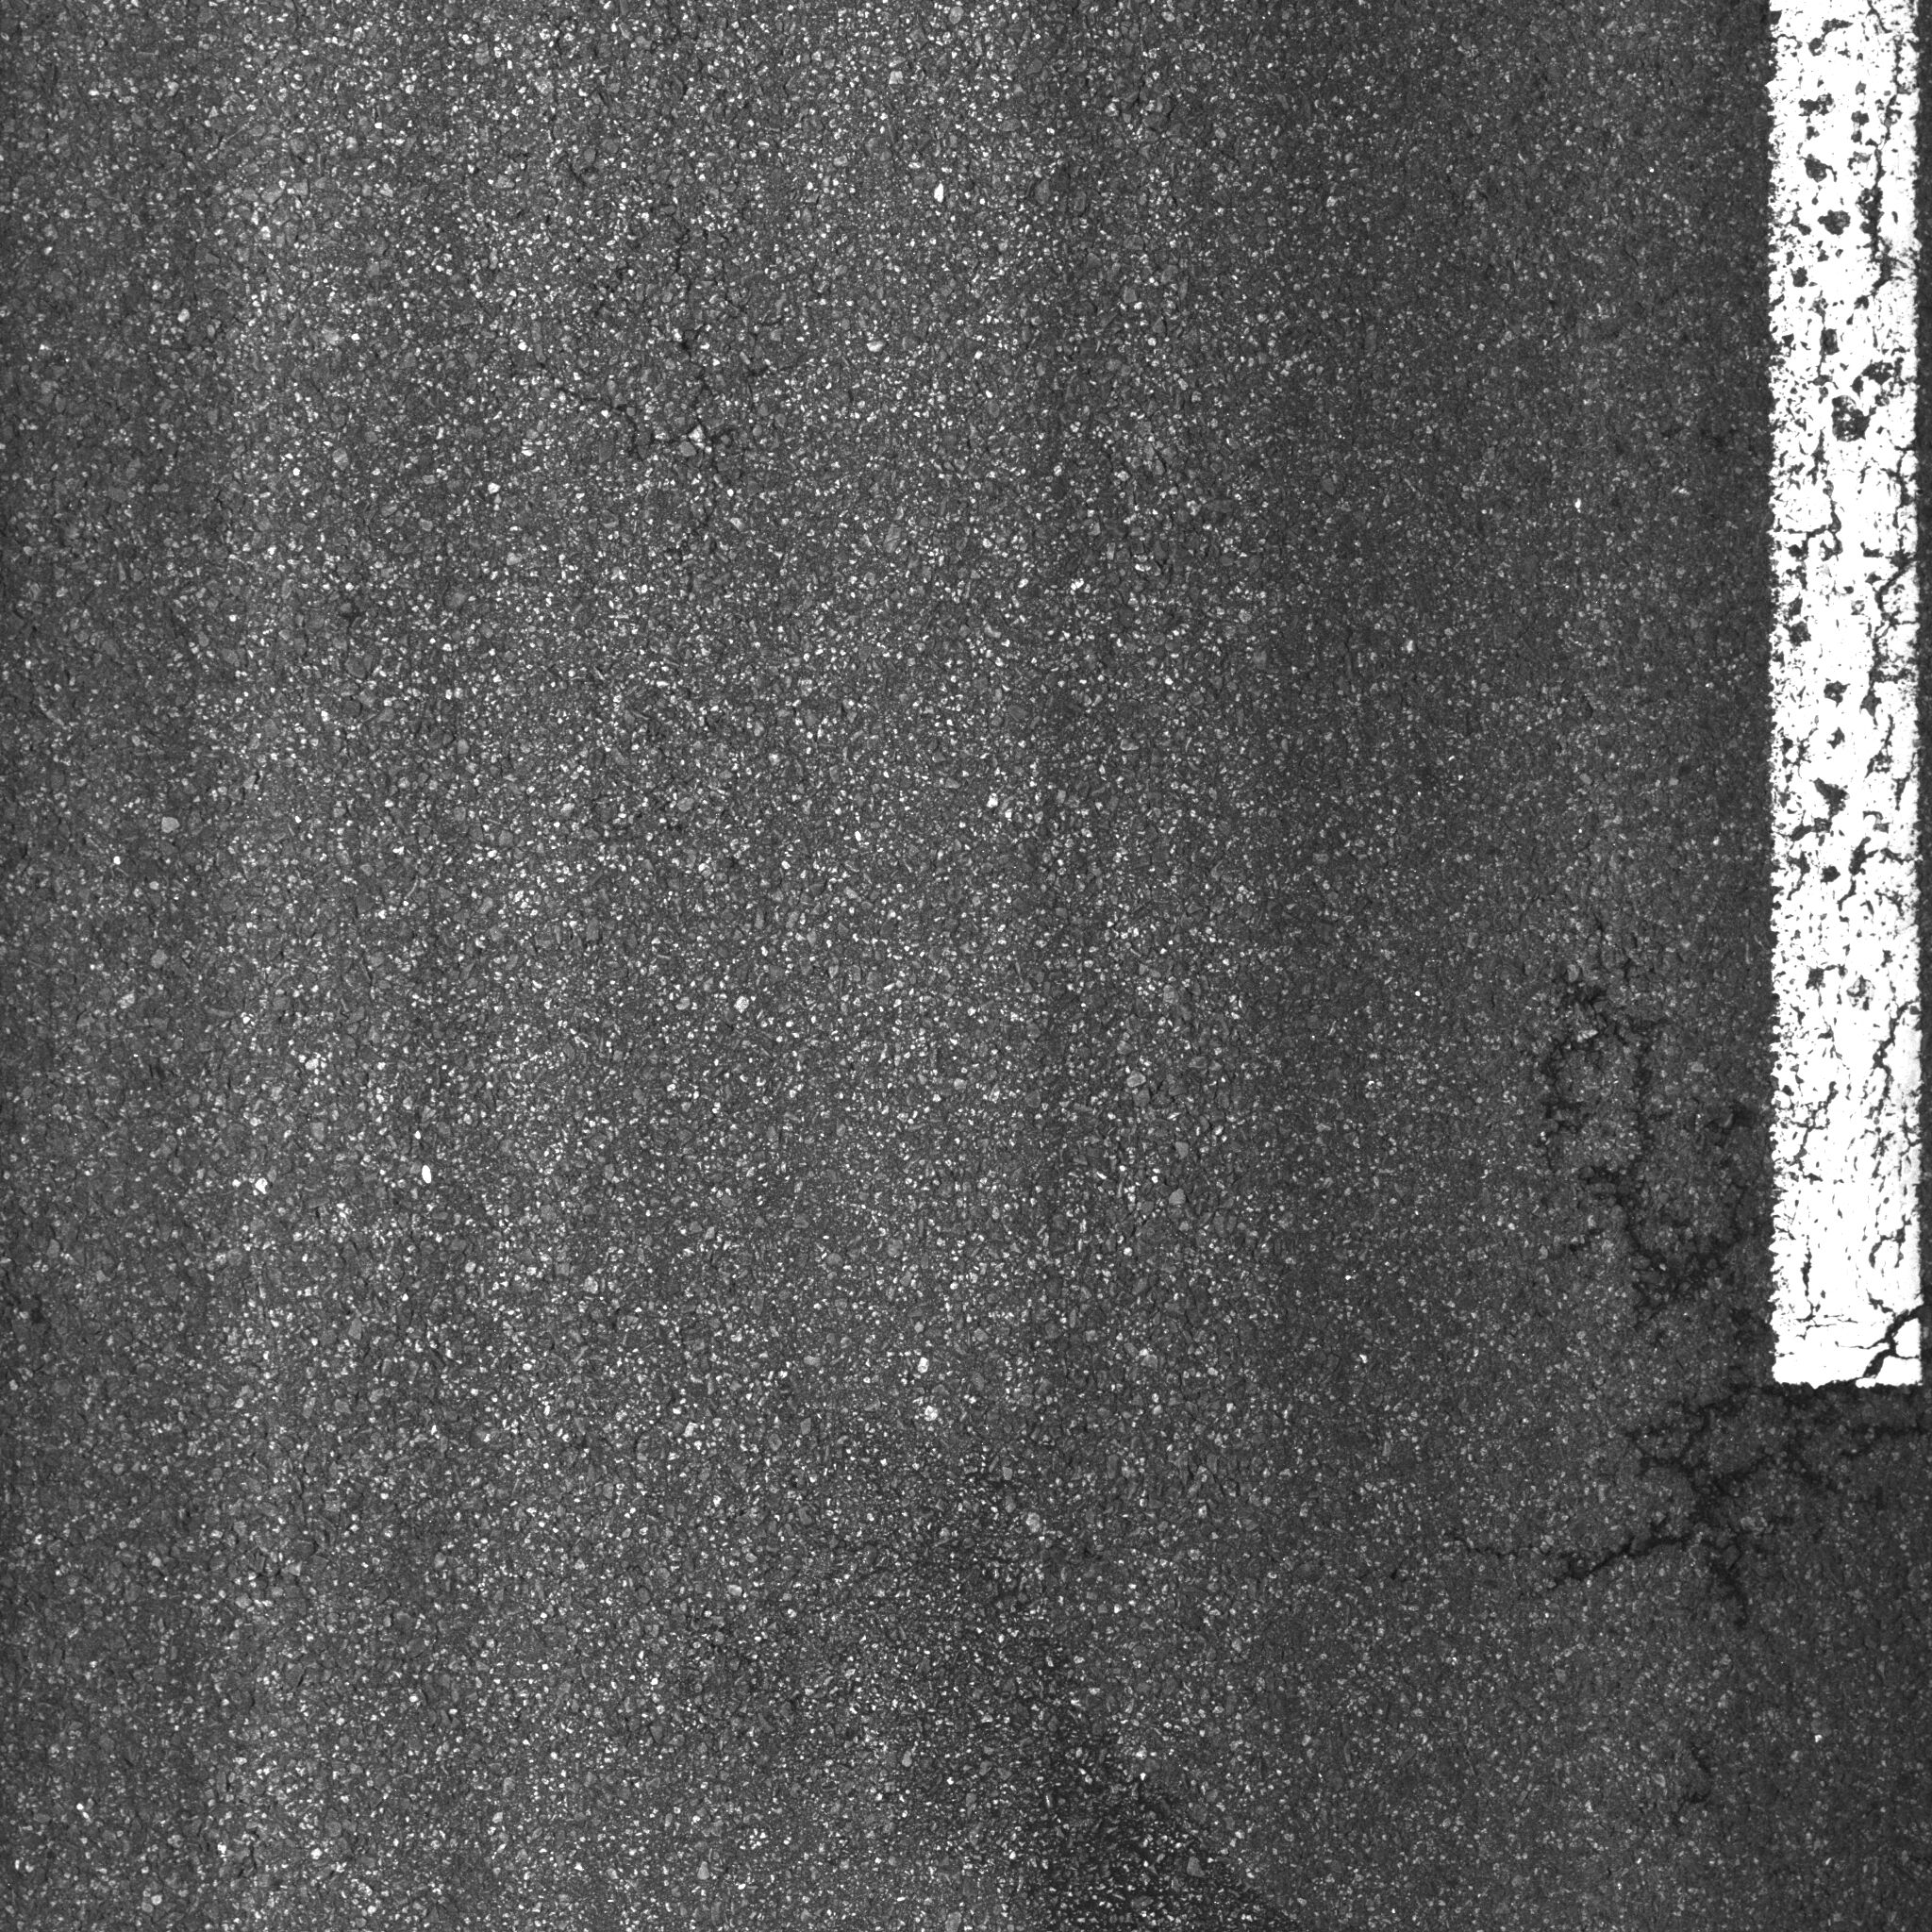alligator: (1417, 920, 1932, 1709)
